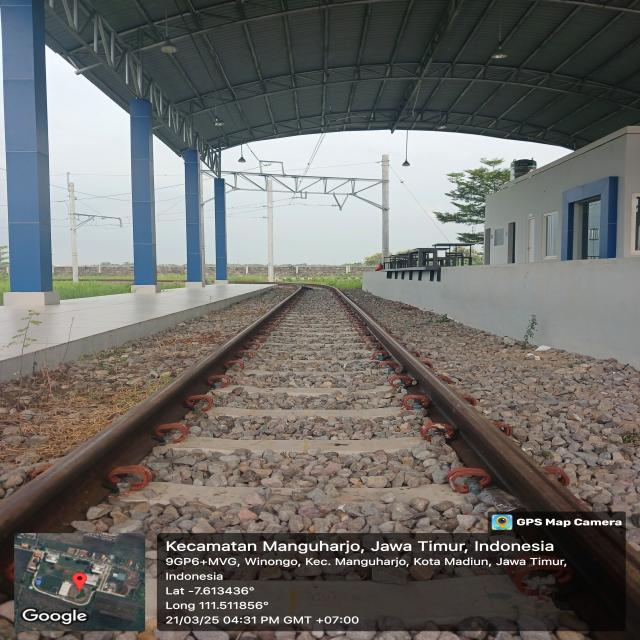rail-detection: (0, 285, 306, 570), (319, 285, 590, 515), (561, 528, 625, 592), (579, 599, 624, 628)
